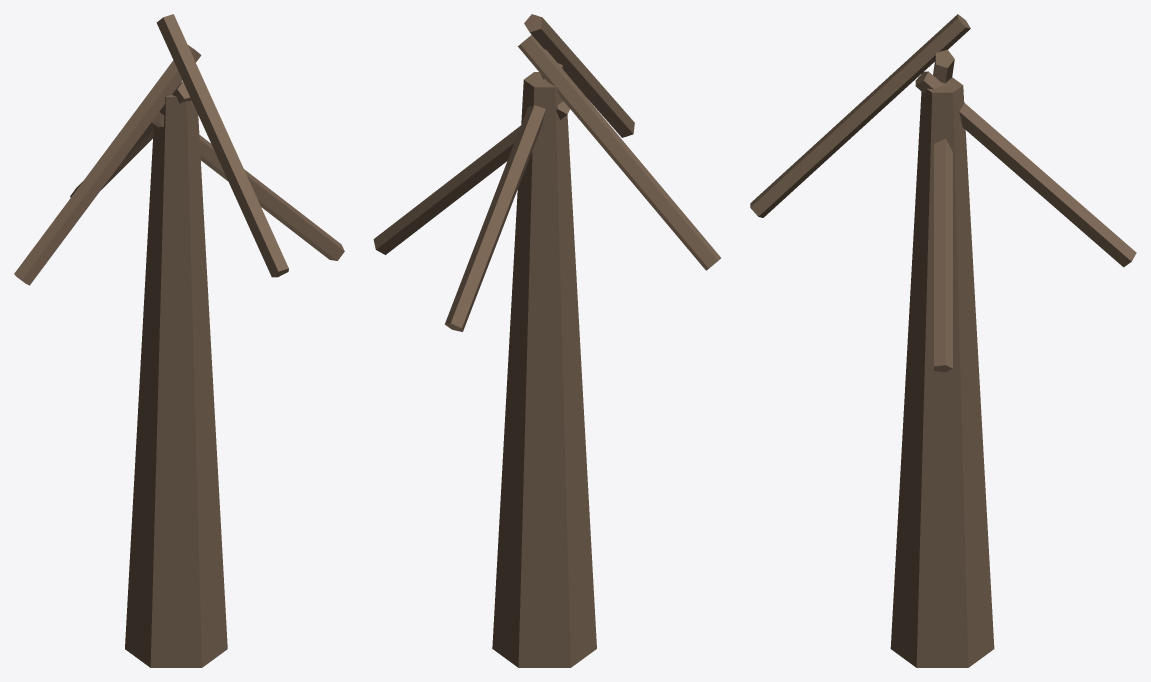
Rendered from dead_tree.glb.
The picture shows the model from 3 angles, left to right: view 1: azimuth 30°, elevation 25°; view 2: azimuth 150°, elevation 25°; view 3: azimuth 270°, elevation 25°; orthographic projection.
Visible parts, largest first — view 1: dead_tree; view 2: dead_tree; view 3: dead_tree.
Boxes of the visible parts, x1,y1,x2,y2 form: dead_tree: (14,14,344,667); dead_tree: (373,14,720,667); dead_tree: (750,14,1136,667).
Size of the model in its own units: 1.87 by 3.37 by 1.86.
